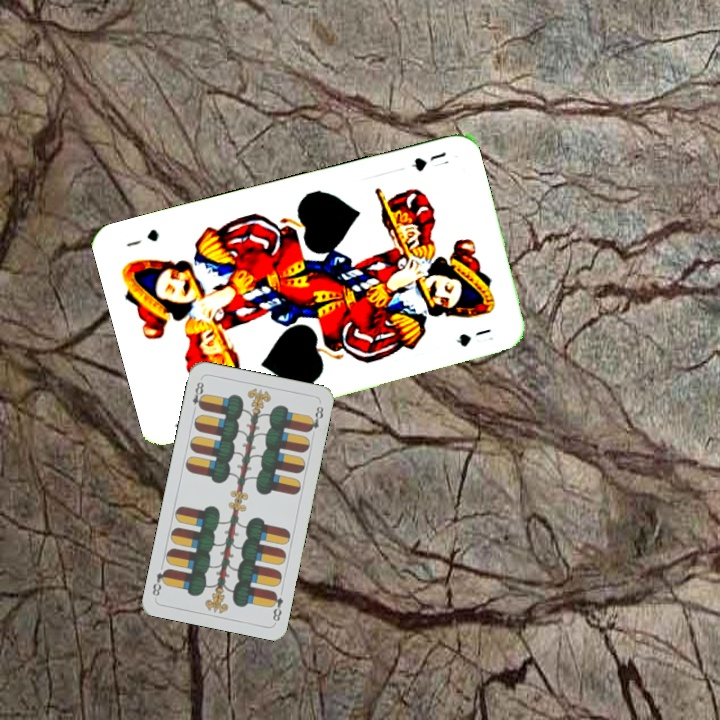E8: (188, 377, 207, 416), (267, 588, 286, 624)
GU: (407, 147, 452, 174)
